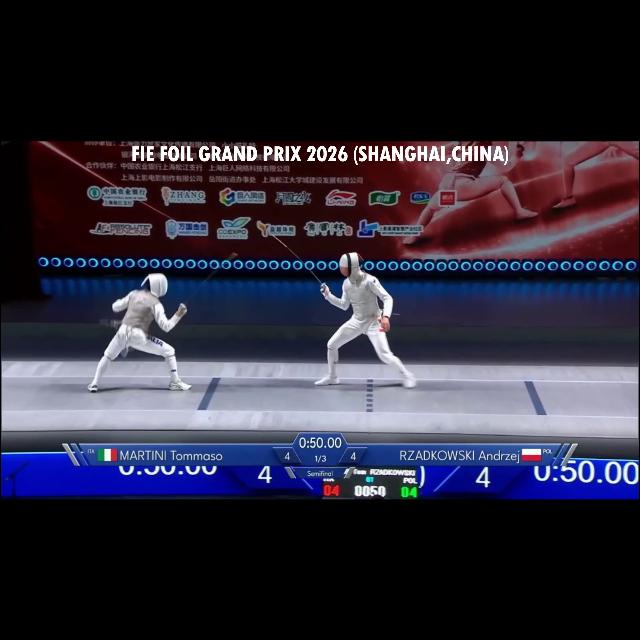blade: (260, 225, 330, 295), (181, 248, 241, 318)
